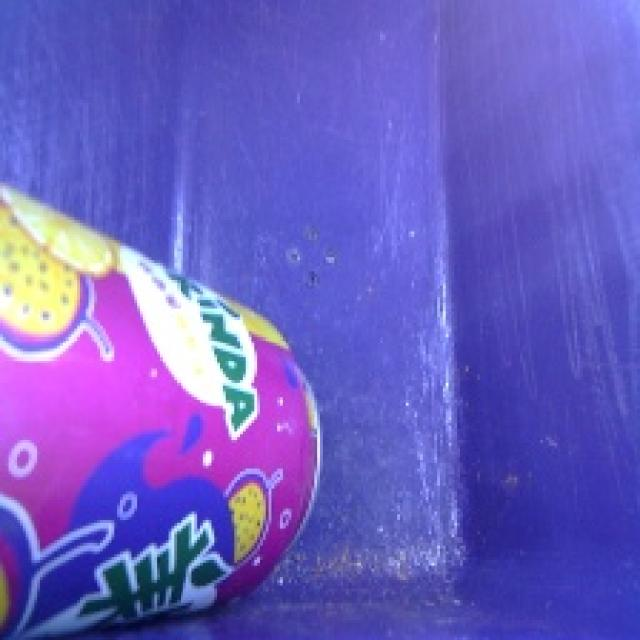metal: (0, 147, 342, 640)
